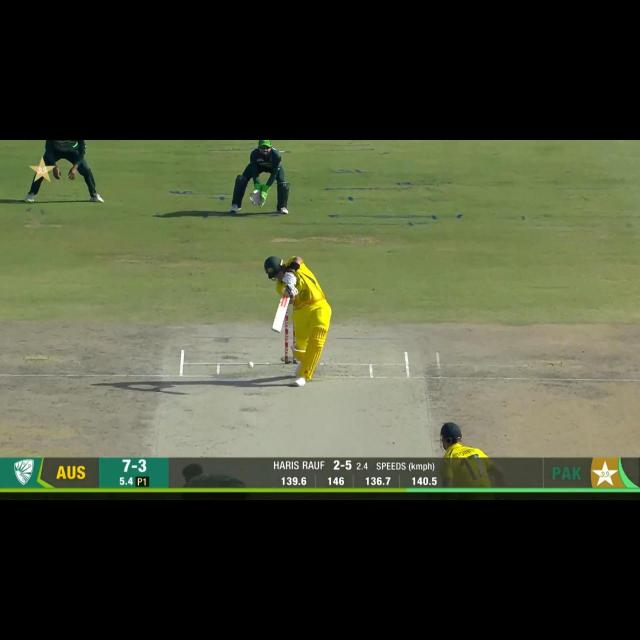bat: (269, 292, 294, 336)
toe: (267, 325, 284, 336)
